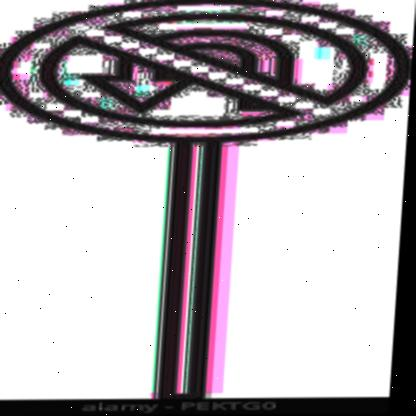No U-turn: (9, 2, 416, 141)
